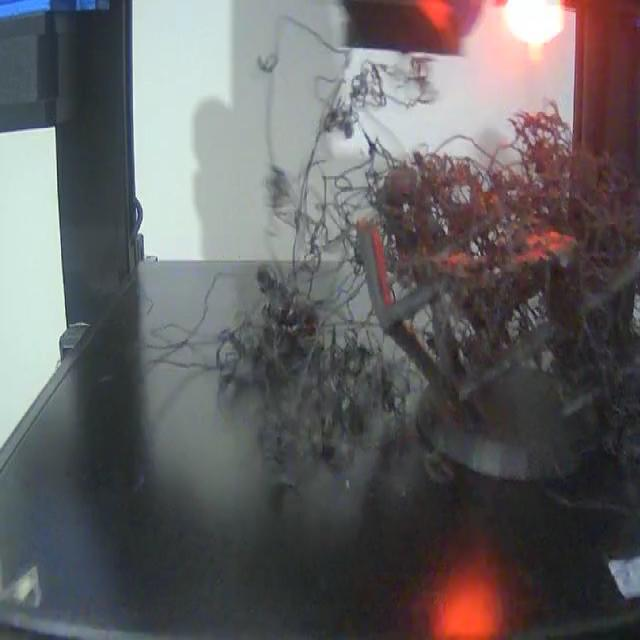spaghetti: (211, 12, 640, 533)
